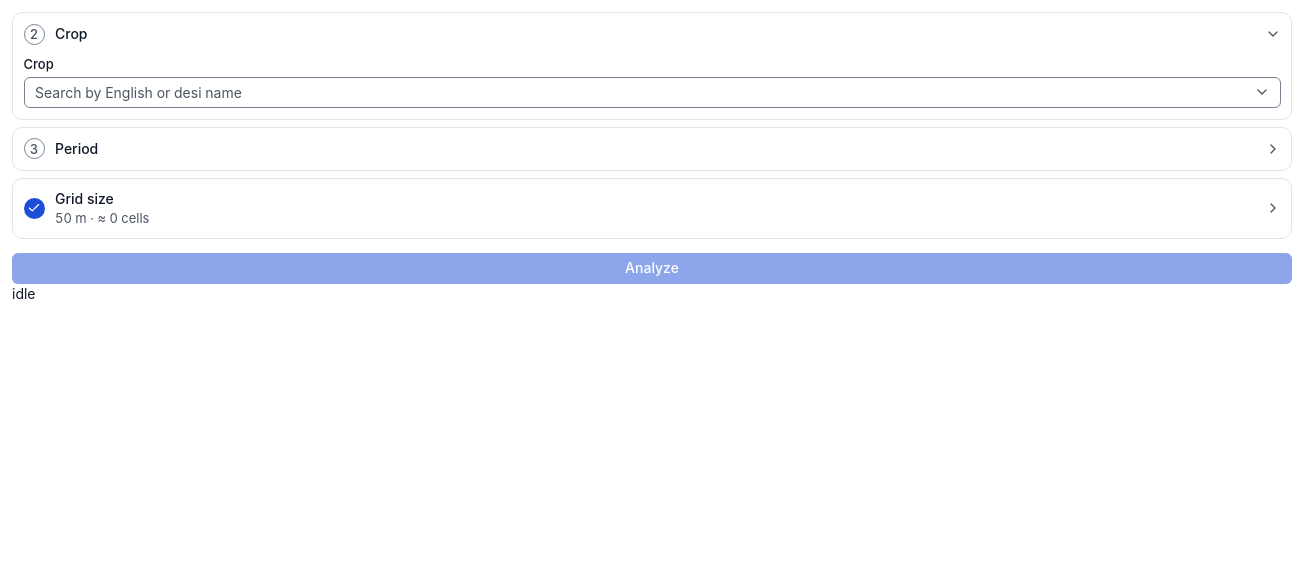
Test: AnalysisSetupPanel › runs the analysis and shows success
Type "Wheat" into the dropdown labelled "Crop" at (652, 92), box x1=24 y1=76 x2=1280 y2=108
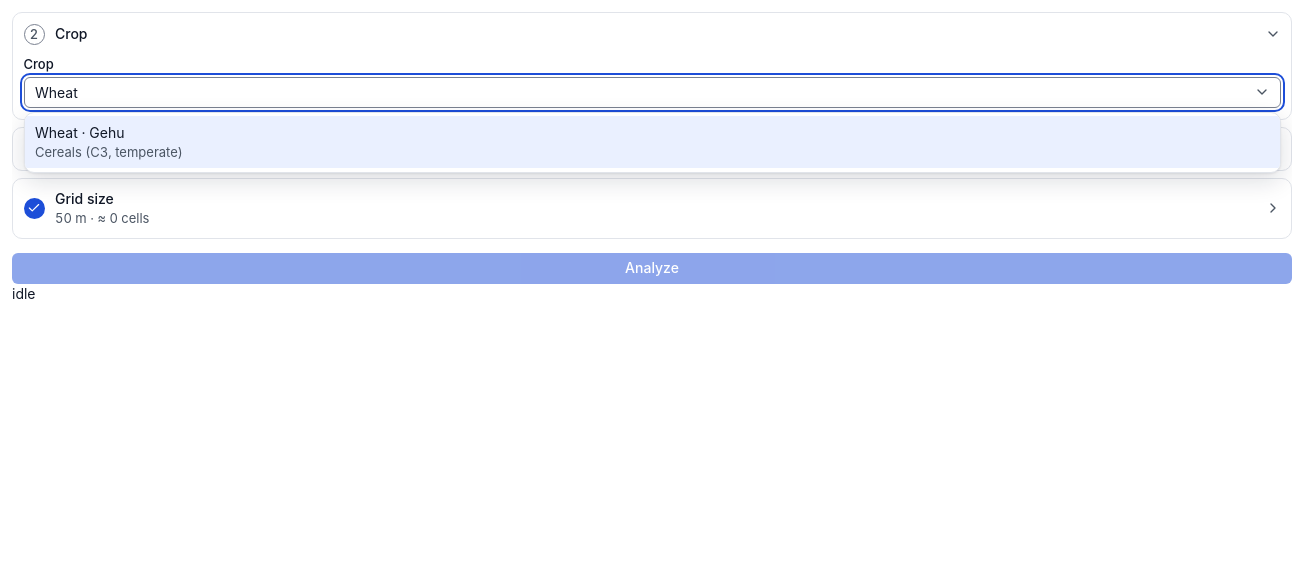
Click the option "Wheat · Gehu Cereals (C3, temperate)" at (80, 132), box x1=24 y1=116 x2=1280 y2=168
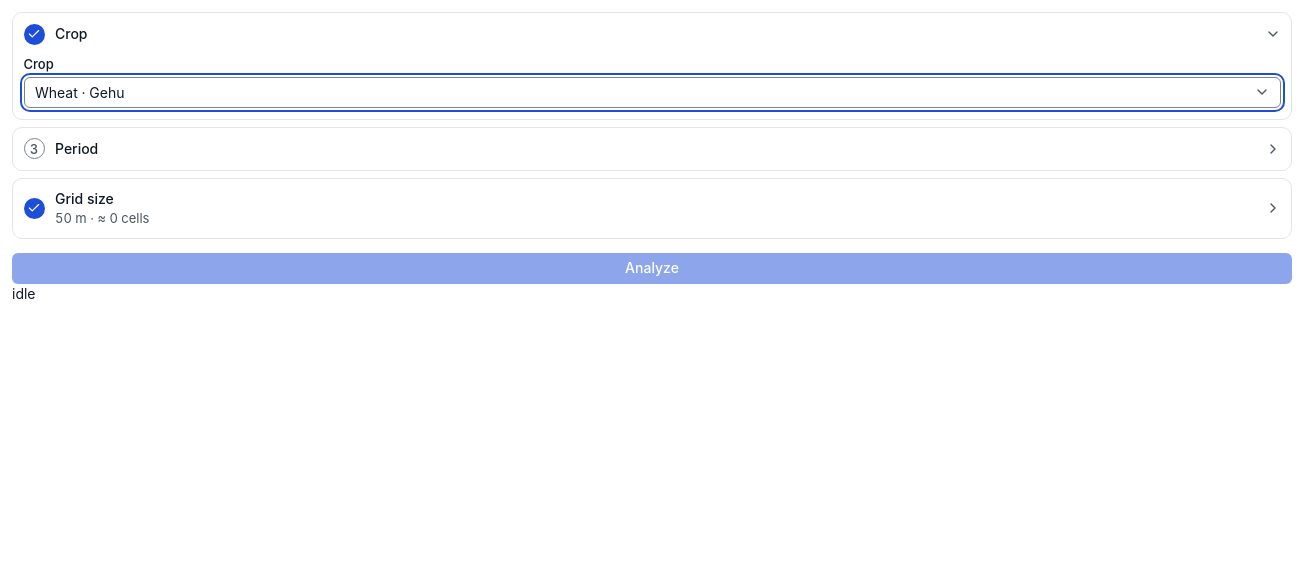
Click the button "3 Period" at (78, 147), box x1=13 y1=128 x2=1291 y2=170
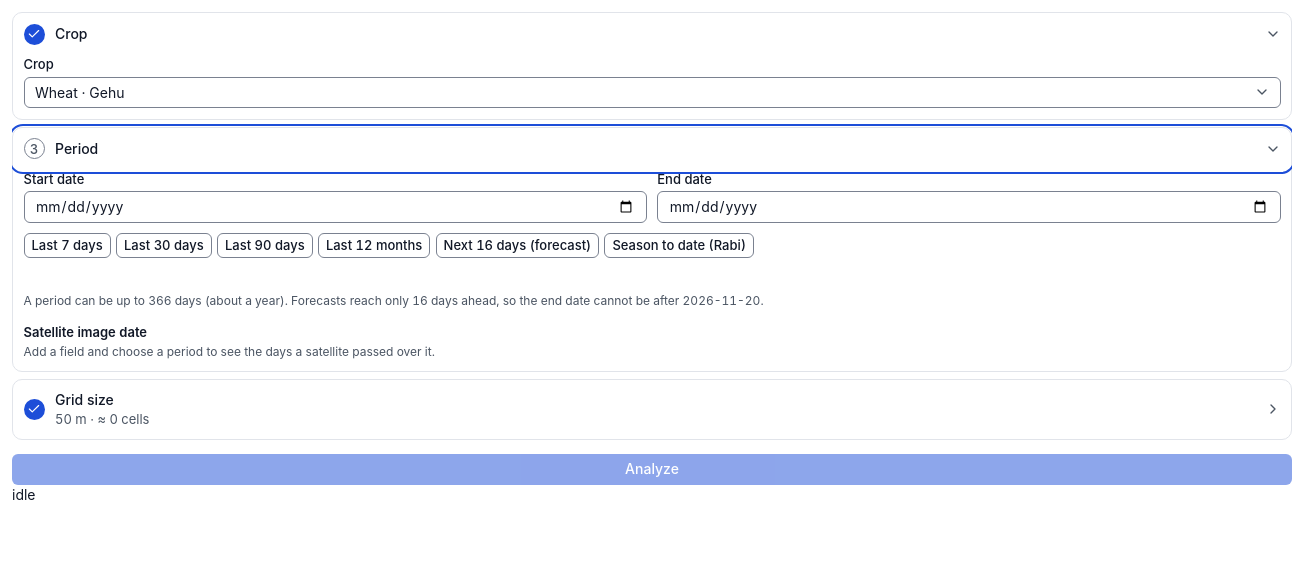
Click the button "Last 30 days" at (164, 245), box x1=116 y1=233 x2=212 y2=258
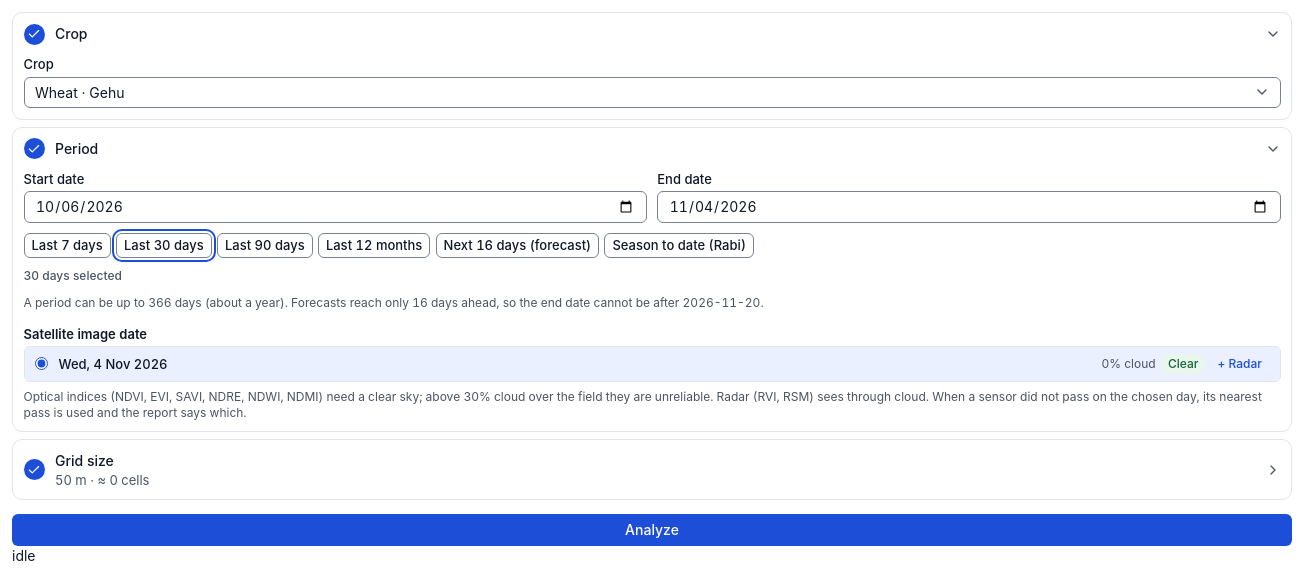
Result: the button "Analyze" does not have attribute aria-disabled
Click the button "Analyze" at (652, 530), box x1=12 y1=514 x2=1292 y2=546
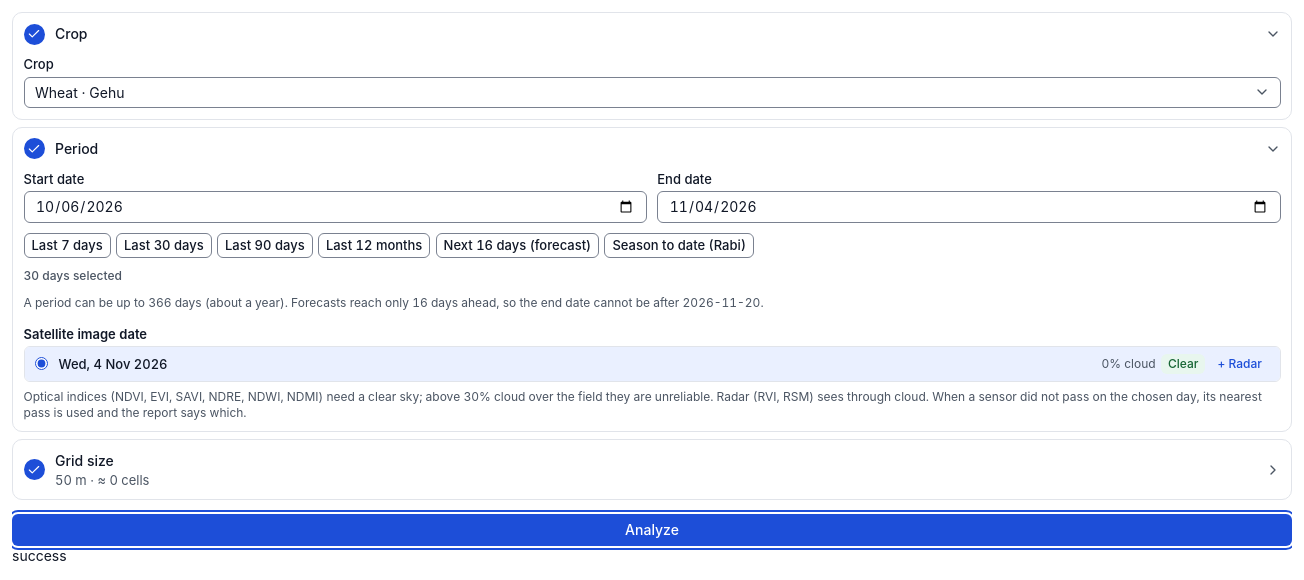
Result: the text with test id "flow-status" reads "success" at x1=12 y1=546 x2=67 y2=564
